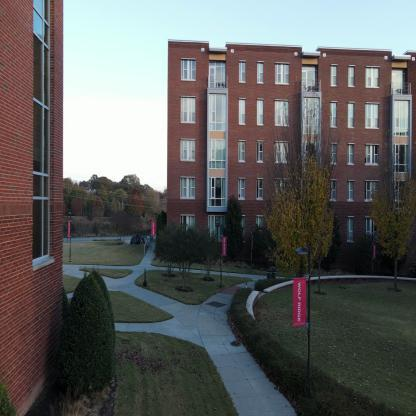Wolf Ridge: (157, 26, 415, 307), (0, 4, 77, 398)
